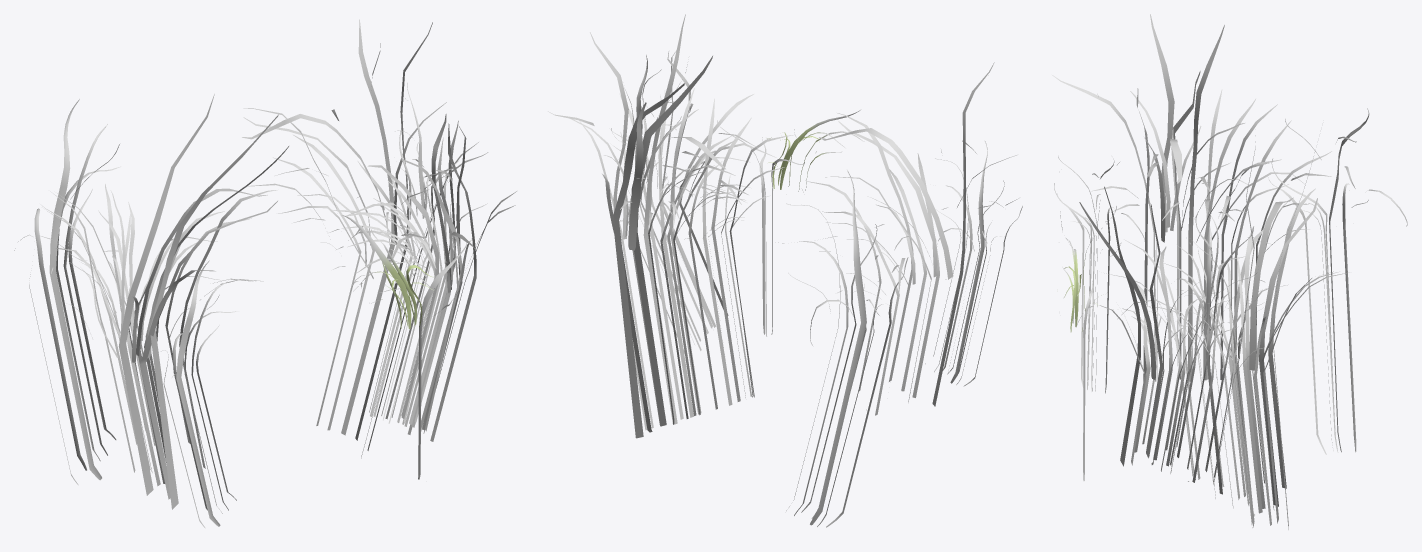
The model's file is PLANTS_10.glb.
3 views of the same model, side by side, from view 1: azimuth 30°, elevation 25°; view 2: azimuth 150°, elevation 25°; view 3: azimuth 270°, elevation 25° (orthographic). The views are drawn at different scales.
Visible parts, largest first — view 1: PLANTAS; view 2: PLANTAS; view 3: PLANTAS.
Boxes of the visible parts, x1=… form: PLANTAS: x1=14, y1=19, x2=516, y2=528; PLANTAS: x1=548, y1=14, x2=1022, y2=527; PLANTAS: x1=1052, y1=14, x2=1407, y2=529.
Bounding box in the file's own units: 26.58 × 25.96 × 19.9.
